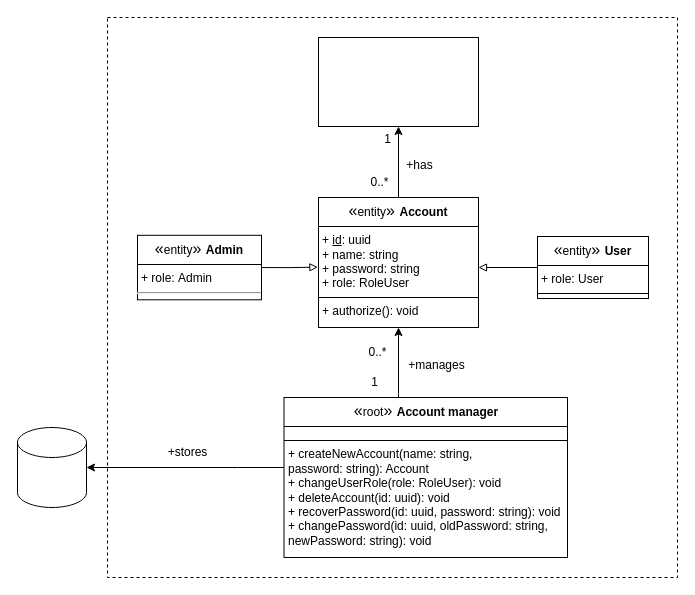
This 695x595 diagram has some shape labels left out. The centre of each missing label's shape, as x and y in pixels:
"<<enumeration>> « value » RoleUser + User + Admin" belongs at [398,81].
"S3-compatible external storage" belongs at [51,467].
